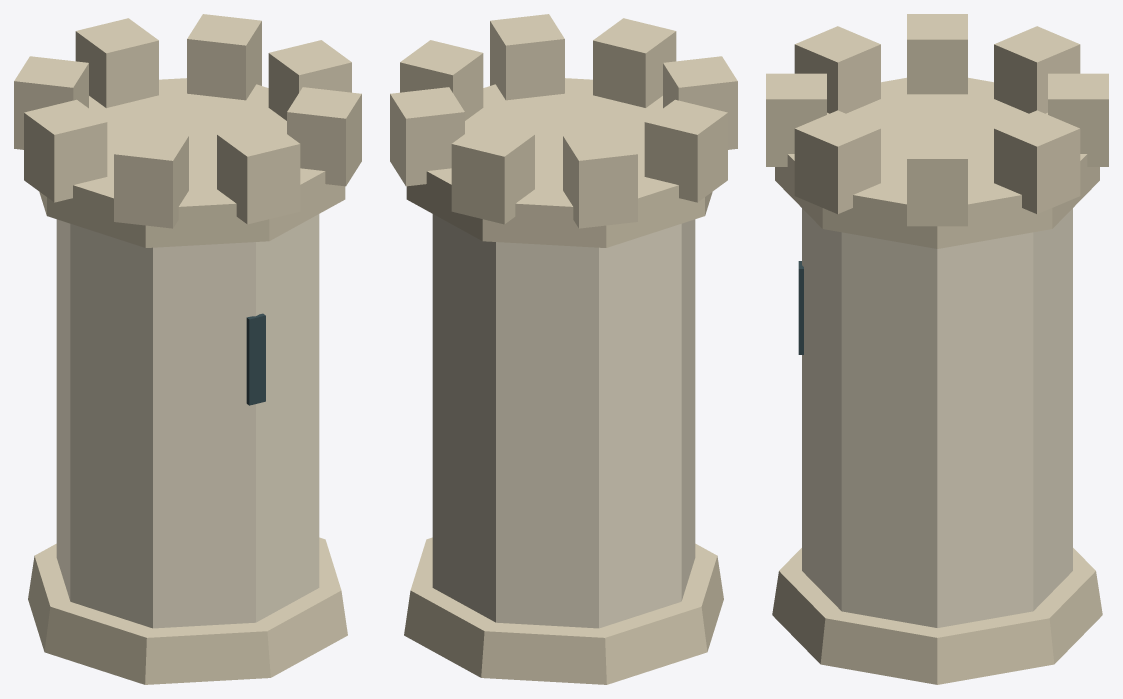
Rendered from tower.glb.
3 views of the same model, side by side, from view 1: azimuth 30°, elevation 25°; view 2: azimuth 150°, elevation 25°; view 3: azimuth 270°, elevation 25° (orthographic).
Visible parts, largest first — view 1: tower; view 2: tower; view 3: tower.
Boxes of the visible parts, x1,y1,x2,y2 form: tower: [14, 14, 361, 684]; tower: [390, 14, 737, 684]; tower: [766, 14, 1108, 684].
Bounding box in the file's own units: 2.53 × 4.3 × 2.53.
